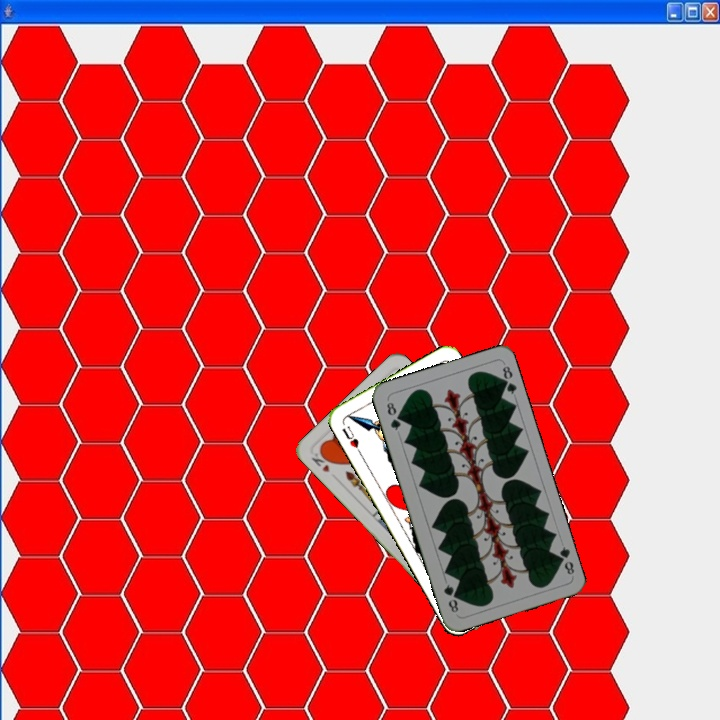G8: (552, 542, 577, 577), (382, 398, 403, 433)
HK: (307, 447, 335, 475)
HU: (338, 422, 364, 457)
